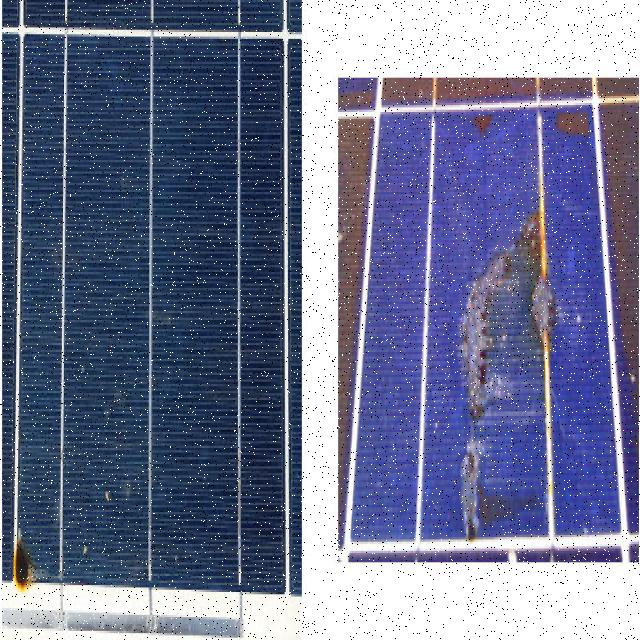electrical damage: (408, 228, 599, 546), (0, 518, 68, 585)
